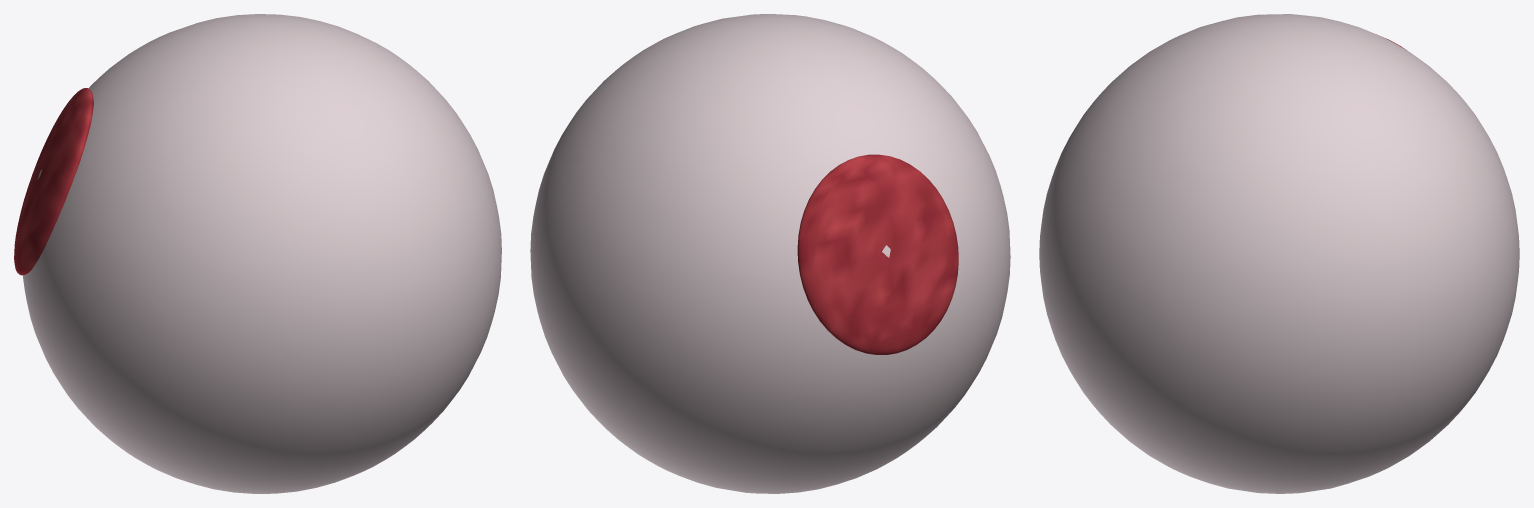
File: hafta_22.glb
3 views of the same model, side by side, from view 1: azimuth 30°, elevation 25°; view 2: azimuth 150°, elevation 25°; view 3: azimuth 270°, elevation 25° (orthographic).
Parts seen in each view (by area): view 1: Amniyon_kesesi, Plasenta; view 2: Amniyon_kesesi, Plasenta; view 3: Amniyon_kesesi.
Part boxes in pixels (x1,y1,x2,y2): Amniyon_kesesi: (22,14,501,493); Plasenta: (14,88,93,275); Amniyon_kesesi: (530,14,1010,493); Plasenta: (797,154,958,354); Amniyon_kesesi: (1039,14,1519,493).
Size of the model in its own units: 1.53 by 1.53 by 1.53.
